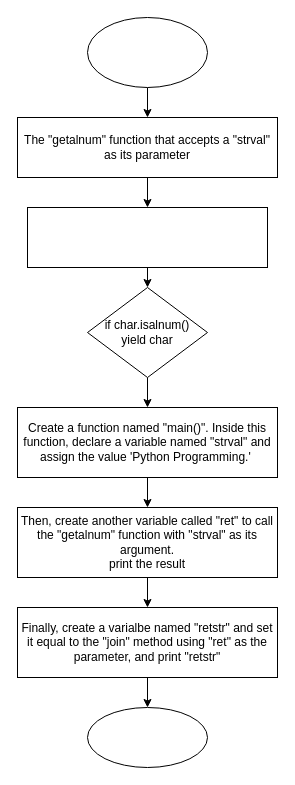
This 295x785 diagram has some shape labels left out. Each missing label, with the centre of its shape:
End: point 147,737
Establish a for loop to iterate through each character in the "strval": point 147,237
Start: point 147,52
